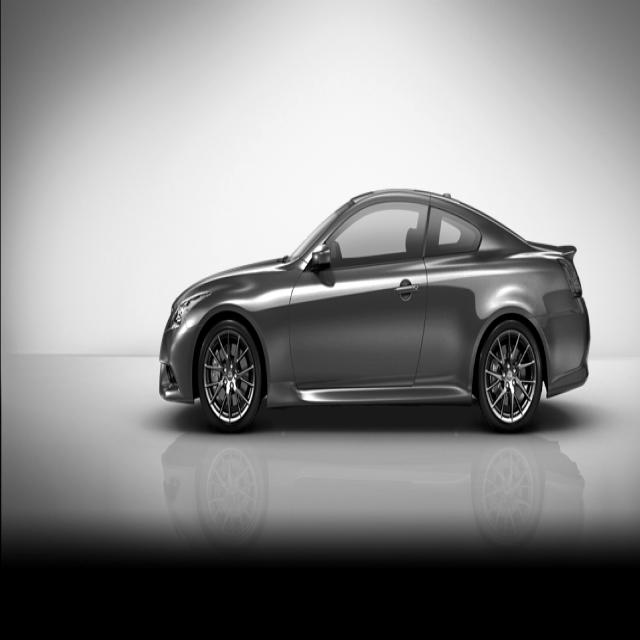car: (158, 186, 590, 434)
